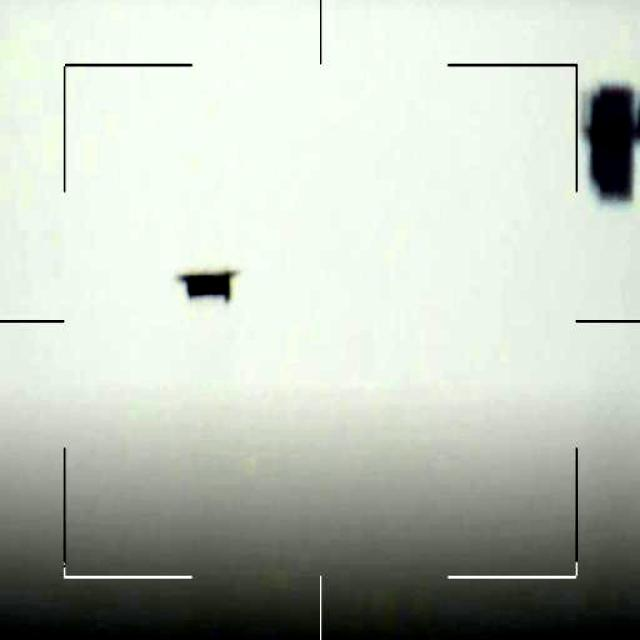bird: (180, 265, 234, 304)
